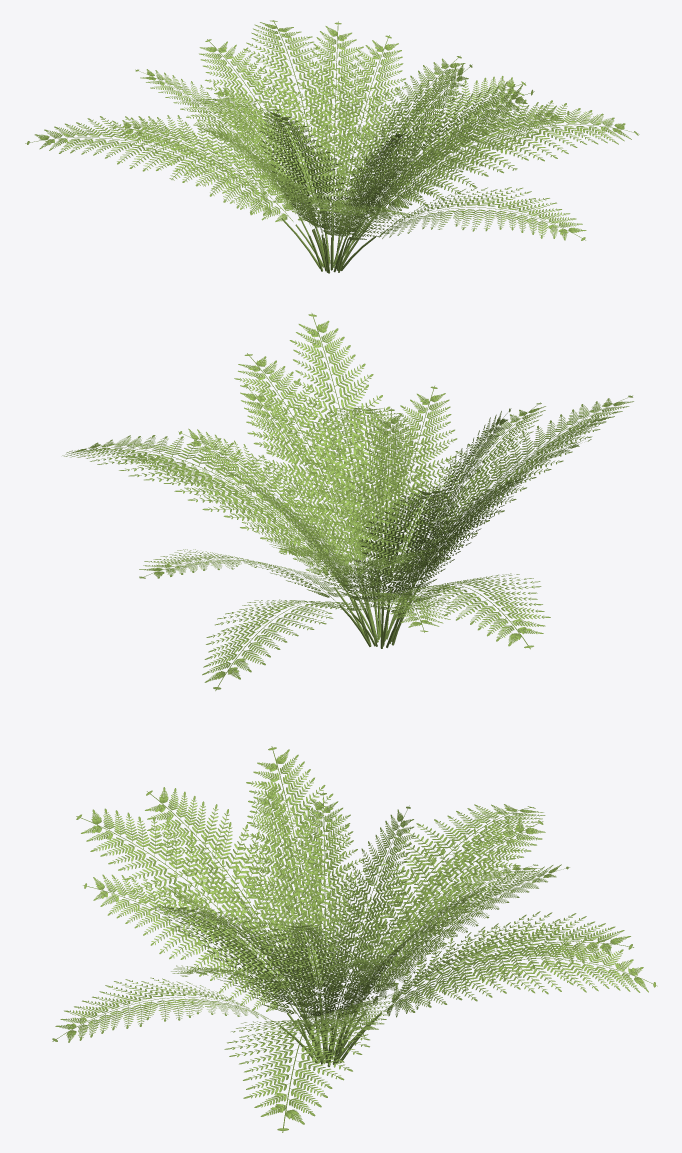
Rendered from lady_fern_v03.fbx.
The picture shows the model from 3 angles, top to bottom: view 1: azimuth 30°, elevation 25°; view 2: azimuth 150°, elevation 25°; view 3: azimuth 270°, elevation 25°; orthographic projection. The views are drawn at different scales.
Visible parts, largest first — view 1: lady_fern_v03; view 2: lady_fern_v03; view 3: lady_fern_v03.
Part boxes in pixels (x1,y1,x2,y2): lady_fern_v03: (25,20,639,273); lady_fern_v03: (62,313,633,690); lady_fern_v03: (52,746,657,1132).
Size of the model in its own units: 180 by 160 by 66.81.
Materials: 2 (2 with a texture image).
